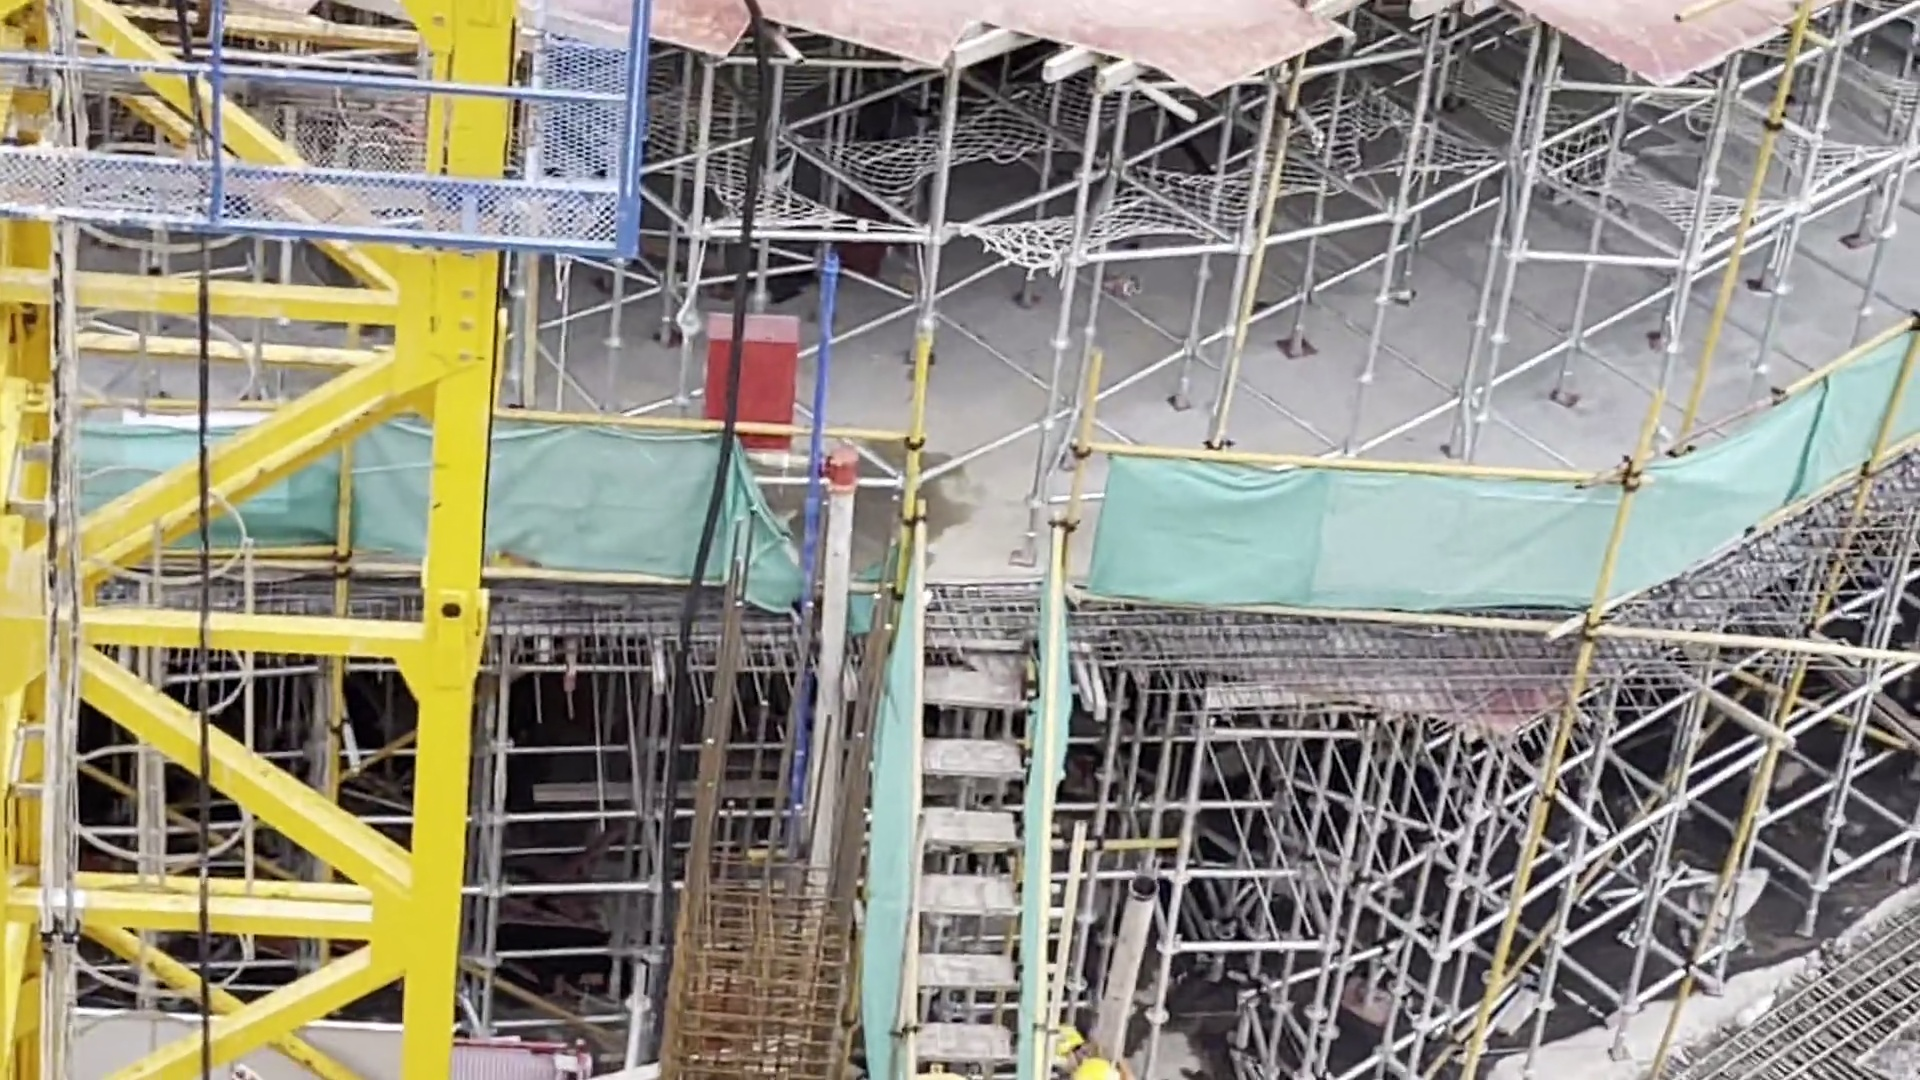helmet: (1069, 1058, 1126, 1080), (1051, 1021, 1080, 1054)
